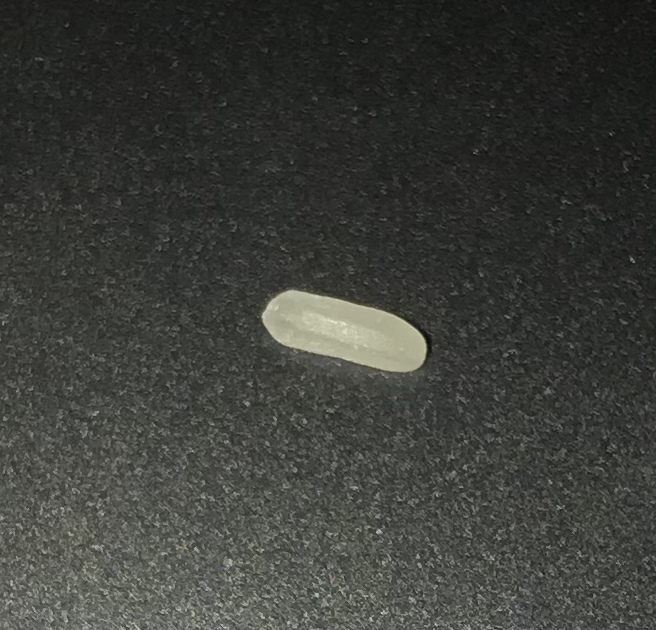Gao Tam Thom: (243, 264, 441, 401)
